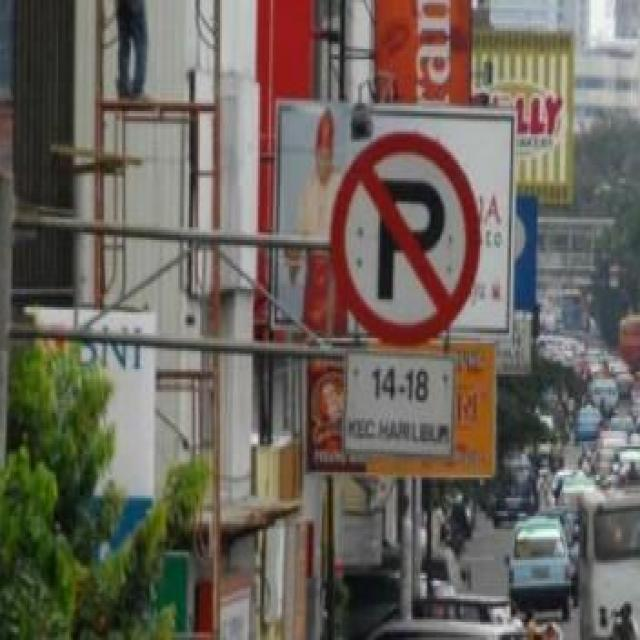traffic sign: (333, 134, 478, 343)
